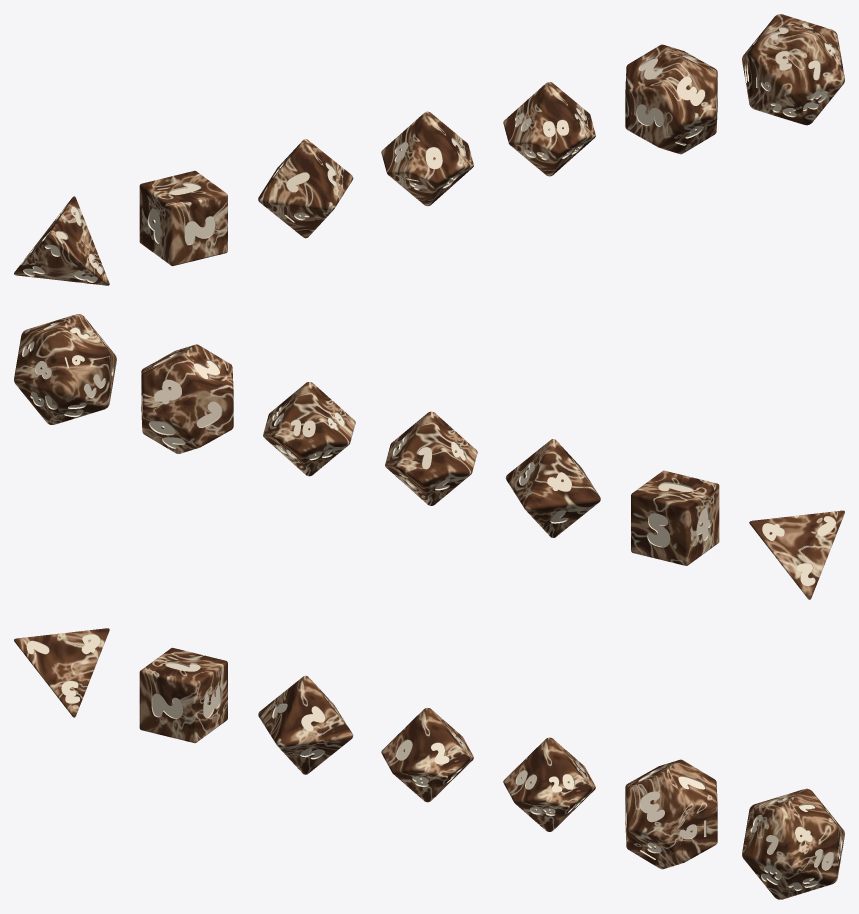
File: cocoa.glb
3 views of the same model, one above another, from view 1: azimuth 30°, elevation 25°; view 2: azimuth 150°, elevation 25°; view 3: azimuth 330°, elevation 25° (orthographic).
Visible parts, largest first — view 1: d20, d12, d6, d100, d10, d8, d4; view 2: d20, d12, d6, d100, d10, d8, d4; view 3: d20, d12, d6, d8, d100, d10, d4.
Part boxes in pixels (x1=…): d20: x1=742, y1=14, x2=844, y2=125; d12: x1=625, y1=44, x2=717, y2=154; d6: x1=139, y1=170, x2=227, y2=266; d100: x1=503, y1=82, x2=595, y2=176; d10: x1=381, y1=111, x2=473, y2=206; d8: x1=258, y1=139, x2=353, y2=238; d4: x1=14, y1=196, x2=109, y2=285; d20: x1=14, y1=314, x2=116, y2=424; d12: x1=141, y1=344, x2=233, y2=453; d6: x1=631, y1=470, x2=719, y2=565; d100: x1=263, y1=382, x2=355, y2=476; d10: x1=385, y1=411, x2=477, y2=505; d8: x1=505, y1=439, x2=600, y2=537; d4: x1=749, y1=510, x2=844, y2=599; d20: x1=742, y1=788, x2=844, y2=899; d12: x1=625, y1=759, x2=717, y2=869; d6: x1=139, y1=647, x2=227, y2=743; d8: x1=258, y1=675, x2=353, y2=774; d100: x1=503, y1=737, x2=595, y2=831; d10: x1=381, y1=707, x2=473, y2=802; d4: x1=14, y1=628, x2=109, y2=717.
Bounding box in the file's own units: 21.14 × 2.47 × 2.47.
Materials: 14 (7 with a texture image).
